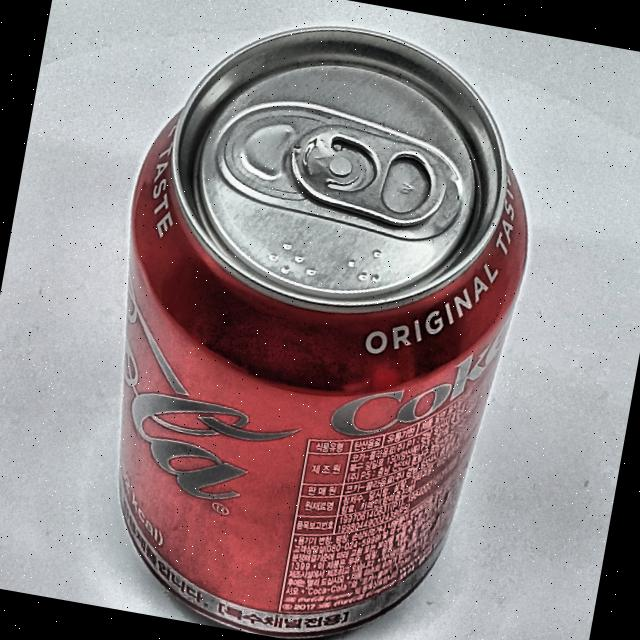cocacola: (60, 156, 527, 640)
